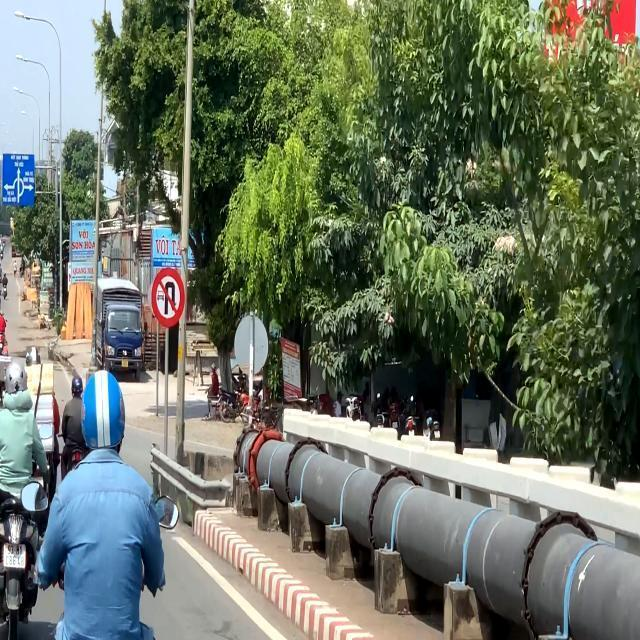124a-cam-quay-dau-xe: (151, 268, 185, 328)
